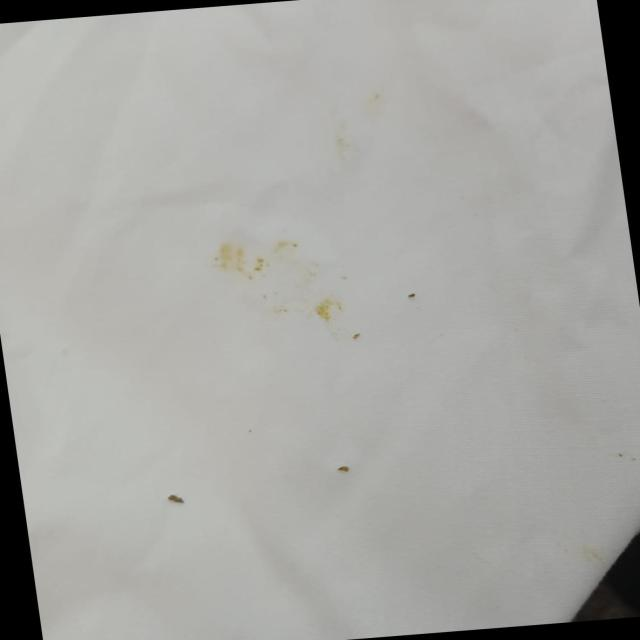stain: (194, 207, 433, 363), (307, 81, 396, 161), (324, 452, 367, 489), (156, 488, 197, 512)
